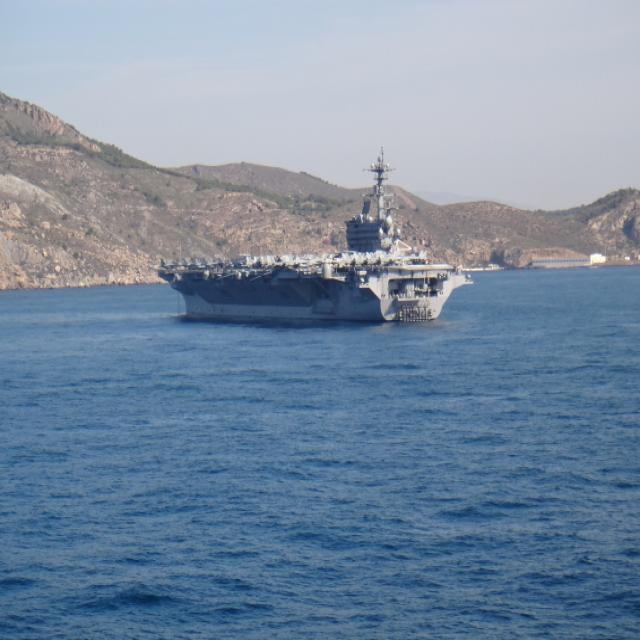Portanaves: (148, 143, 487, 333)
